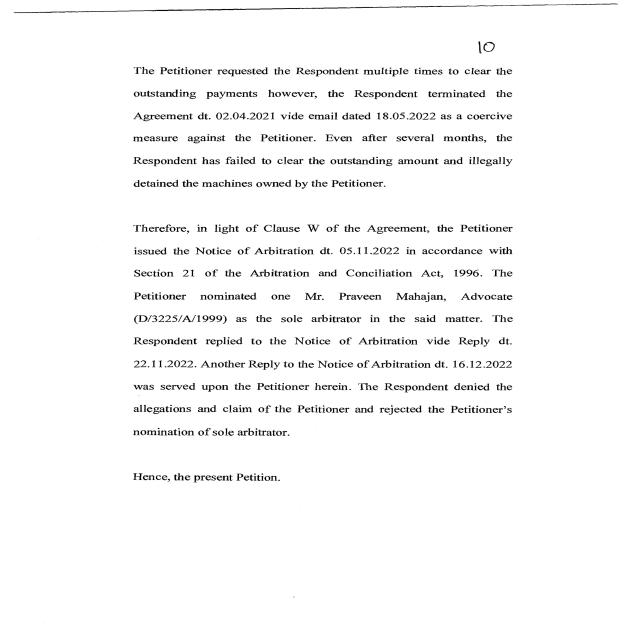page-number: (68, 1, 626, 66)
